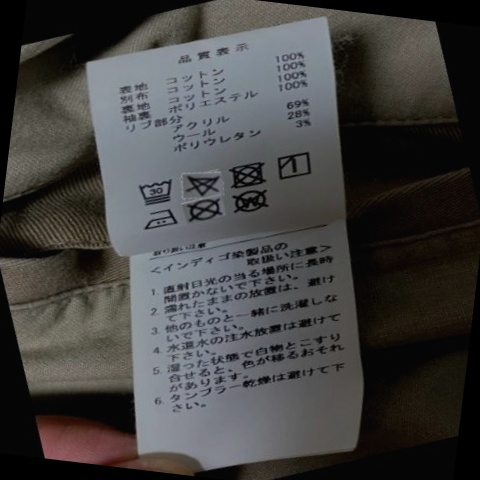30C: (138, 170, 177, 211)
DN_bleach: (186, 163, 225, 201)
DN_dry_clean: (185, 196, 226, 229)
DN_tumble_dry: (227, 153, 273, 192)
DN_wet_clean: (229, 184, 273, 223)
iron_medium: (141, 204, 179, 238)
